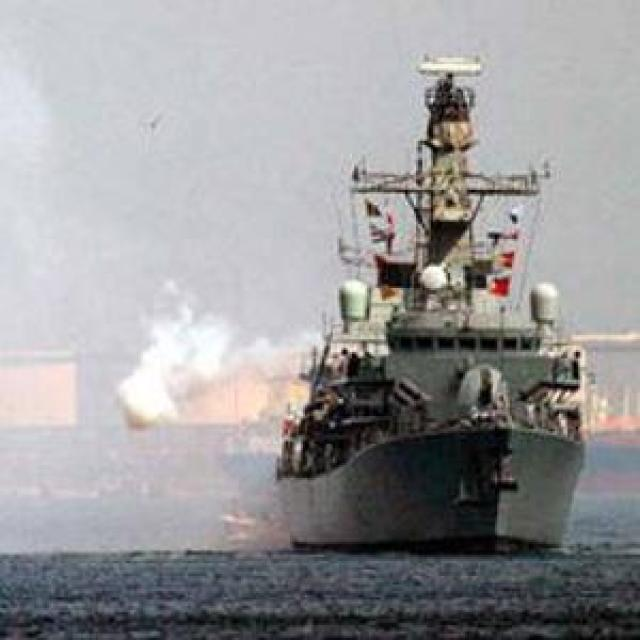navalvessels: (259, 41, 597, 566)
